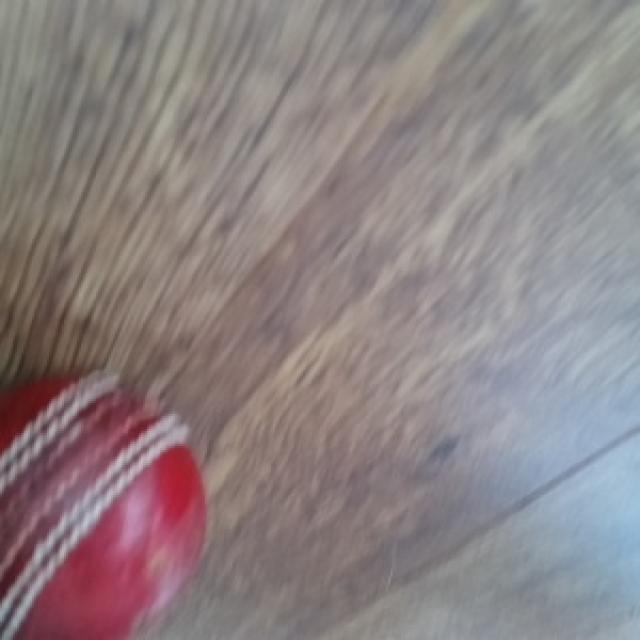ball: (0, 371, 211, 640)
